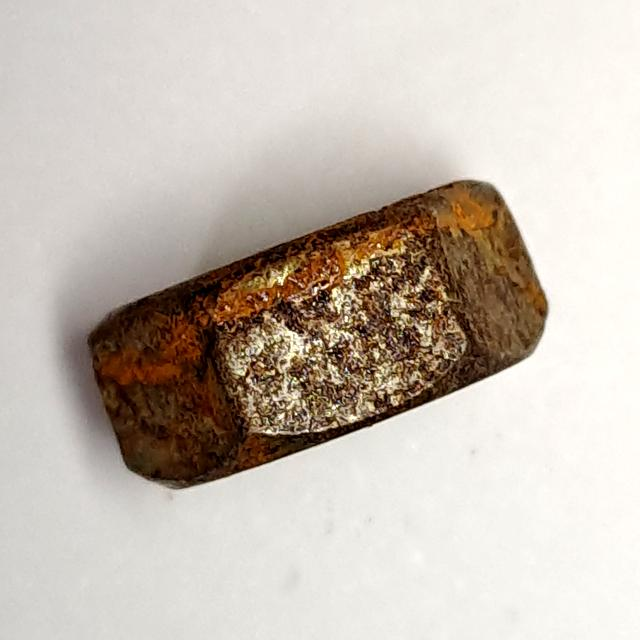Side_Rust: (83, 166, 558, 502)
